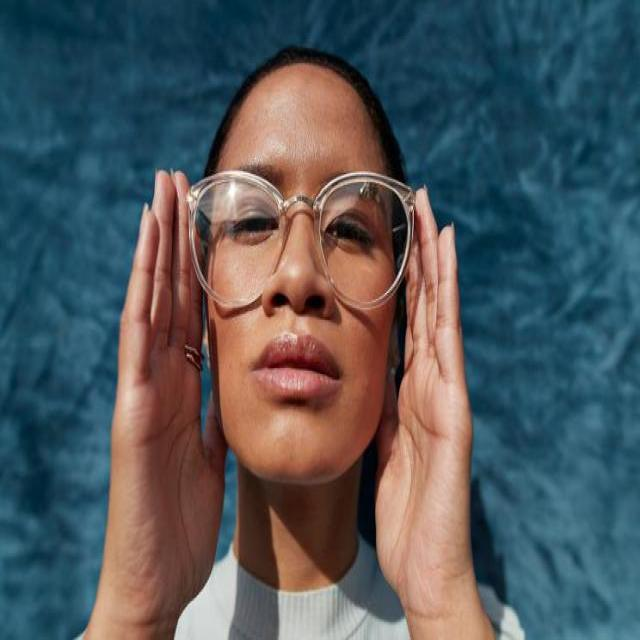glasses: (186, 172, 414, 310)
